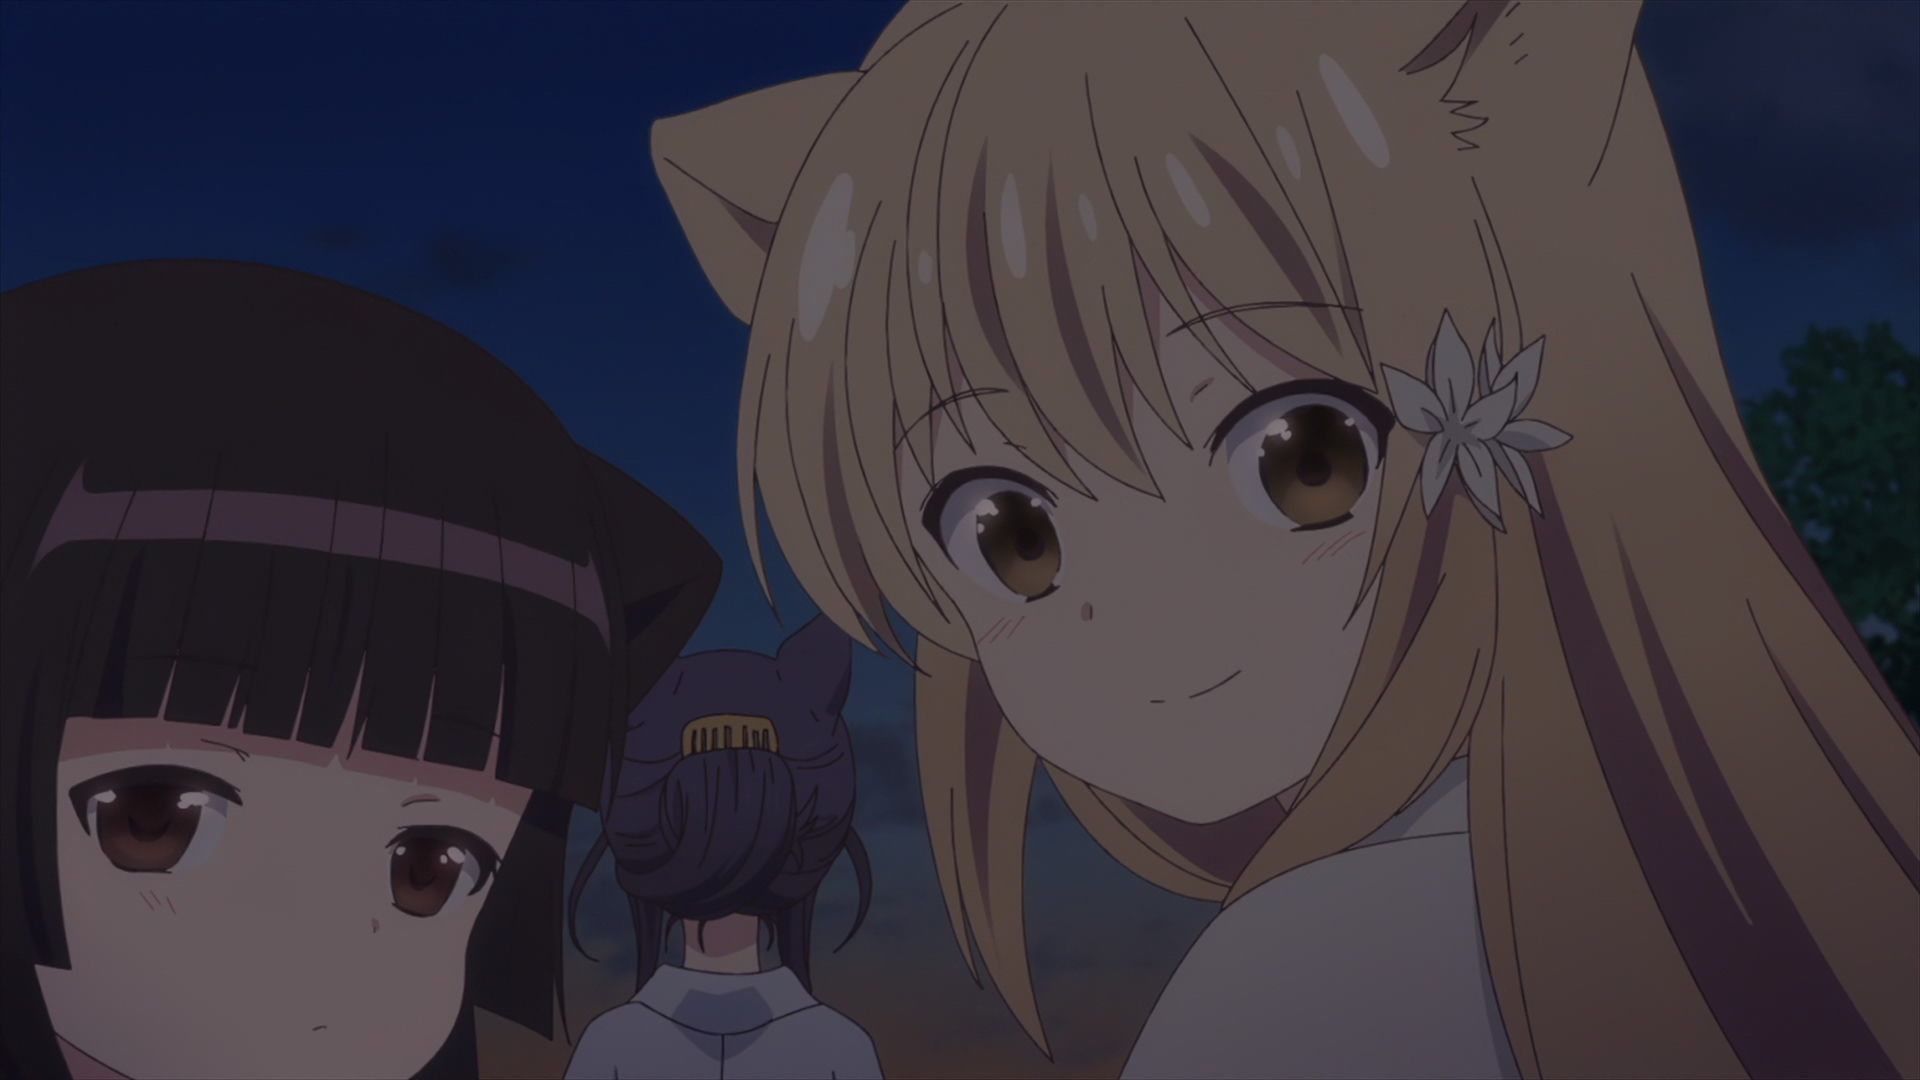柚: (650, 1, 1920, 1080)
樱: (1, 256, 724, 1080)
皋: (570, 613, 887, 1080)
